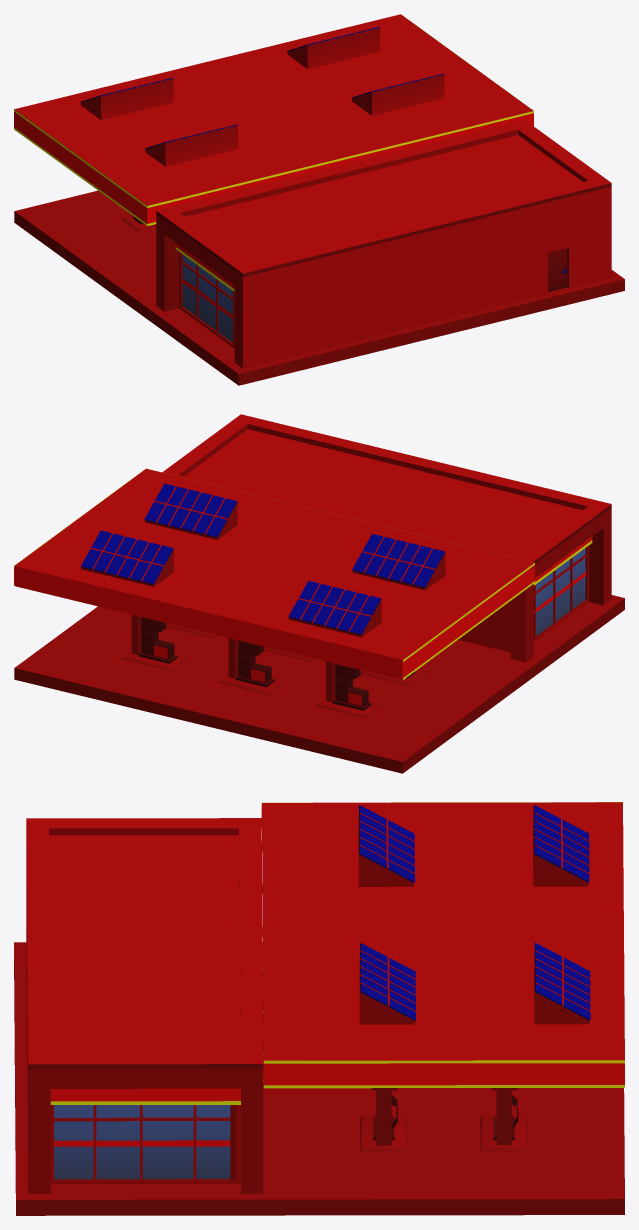
File: Mesh.GasStation.fbx
3 views of the same model, one above another, from view 1: azimuth 30°, elevation 25°; view 2: azimuth 150°, elevation 25°; view 3: azimuth 270°, elevation 25° (orthographic). The views are drawn at different scales.
Visible parts, largest first — view 1: base.082, light.008, windowRefl.064, refl5; view 2: base.082, refl5, light.008, windowRefl.064; view 3: base.082, light.008, windowRefl.064, refl5.
Boxes of the visible parts, box(x1,y1,x2,y2) form: base.082: box(14, 14, 624, 385); light.008: box(14, 14, 533, 291); windowRefl.064: box(182, 254, 232, 342); refl5: box(80, 26, 566, 273); base.082: box(14, 414, 624, 773); refl5: box(80, 483, 444, 634); light.008: box(14, 469, 592, 705); windowRefl.064: box(536, 548, 585, 635); base.082: box(14, 802, 624, 1215); light.008: box(50, 802, 624, 1119); windowRefl.064: box(54, 1105, 230, 1179); refl5: box(359, 805, 590, 1020).
Size of the model in its own units: 2309 by 2314 by 787.
